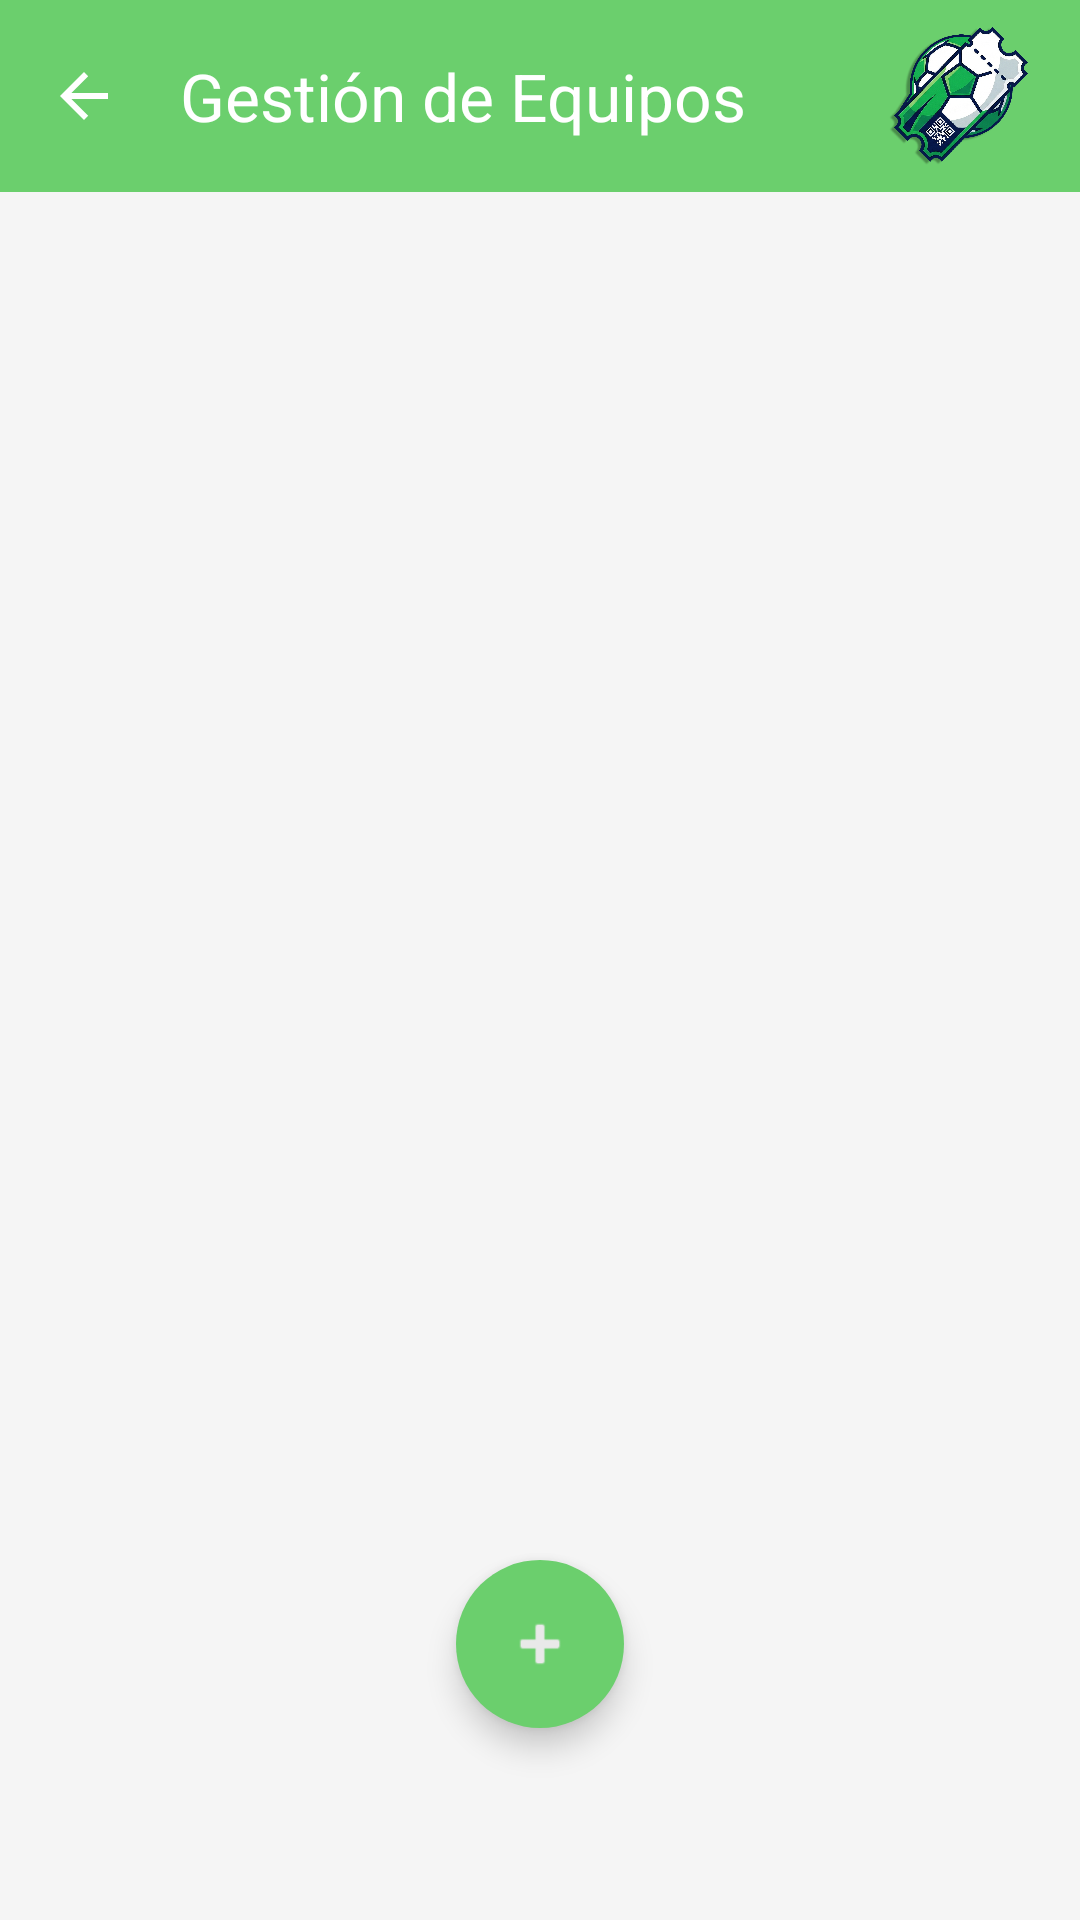

Named icons in this screenshot (1080px×1920px) and their centers, (x,y):
Crear partido: (540,1644)
